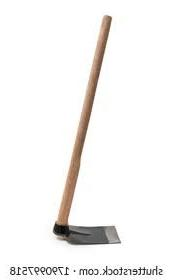HOUE: (3, 4, 134, 260)
